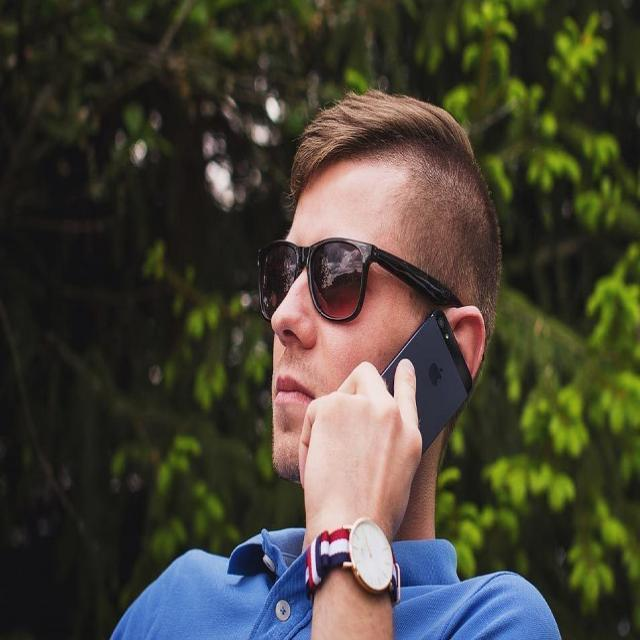phone: (381, 310, 472, 451)
